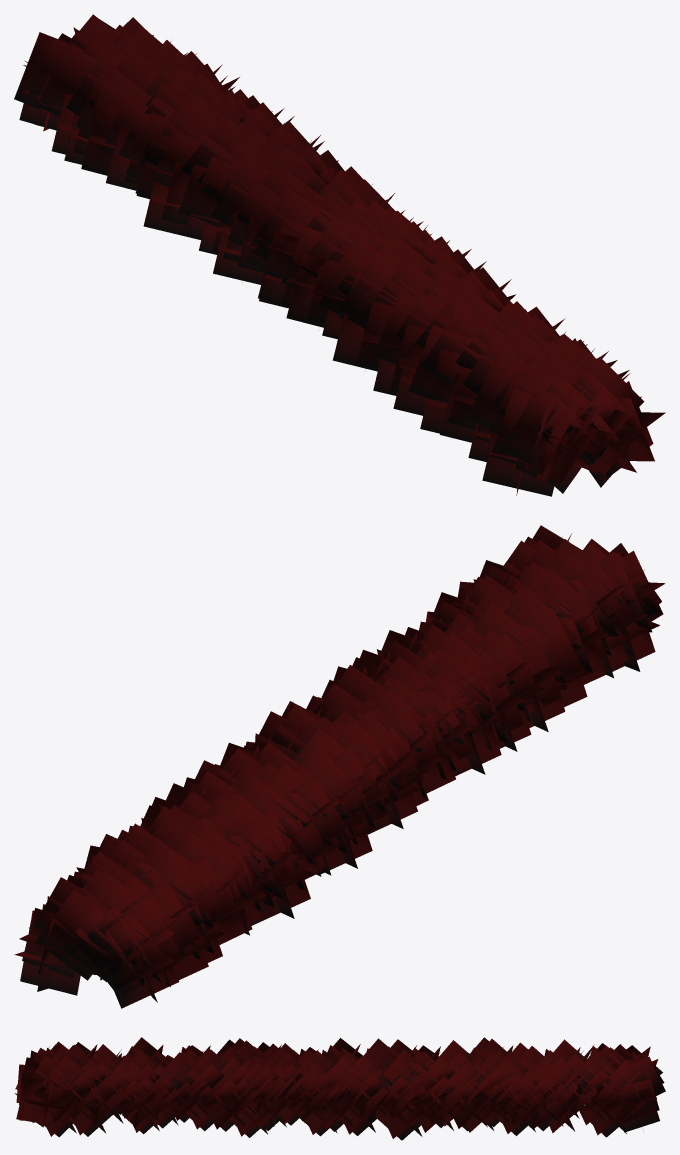
File: HedgeMiddleLarge.fbx
3 renders of one model, top to bottom at view 1: azimuth 30°, elevation 25°; view 2: azimuth 150°, elevation 25°; view 3: azimuth 270°, elevation 25°, orthographic. The views are drawn at different scales.
Visible parts, largest first — view 1: HedgeMiddleLarge_LOD0; view 2: HedgeMiddleLarge_LOD0; view 3: HedgeMiddleLarge_LOD0.
Part boxes in pixels (bbox=[...]): HedgeMiddleLarge_LOD0: bbox=[14, 14, 665, 496]; HedgeMiddleLarge_LOD0: bbox=[14, 525, 665, 1008]; HedgeMiddleLarge_LOD0: bbox=[14, 1037, 665, 1140].
Size of what is drawn, in the model's own units: 147 by 110 by 829.
